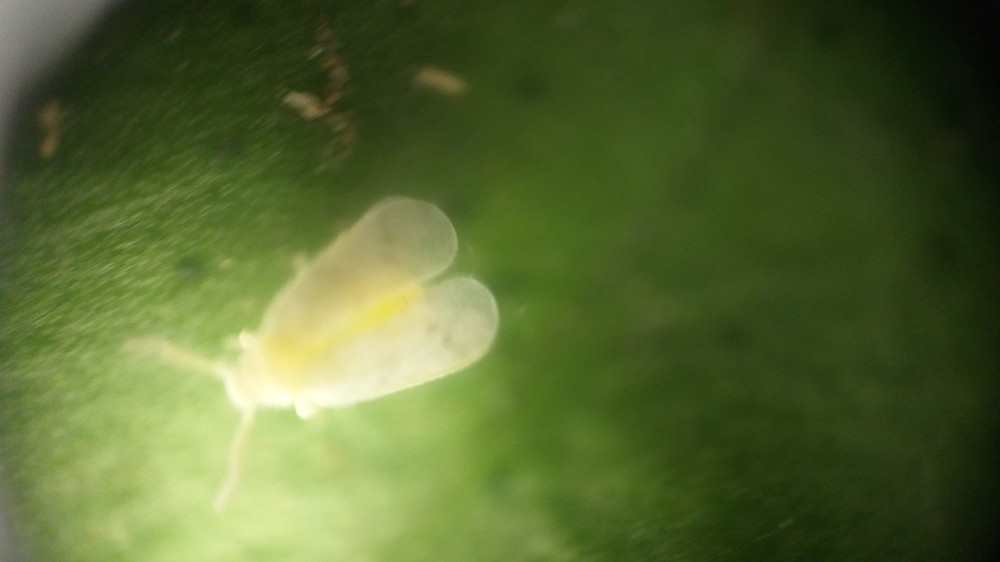Mosca Blanca: (122, 189, 513, 520)
